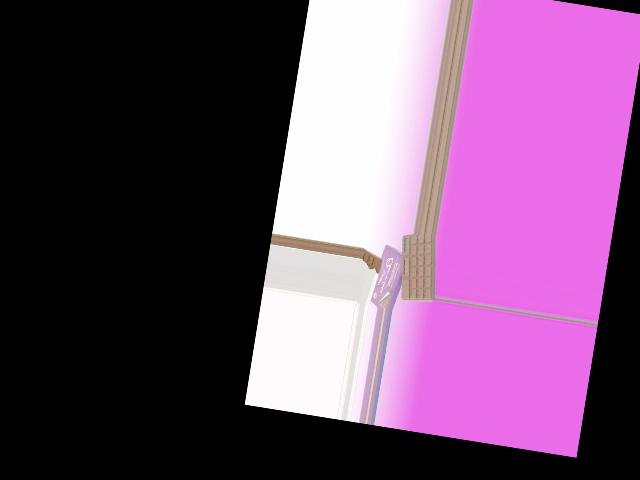chocolate: (391, 234, 444, 304)
